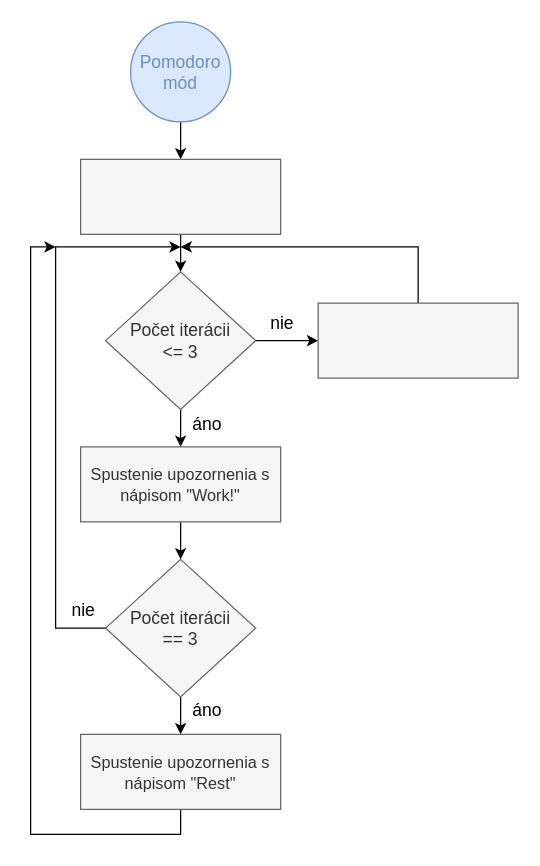
This 540x866 diagram has some shape labels left out. The centre of each missing label's shape, as x and y in pixels:
Spustenie upozornenia s nápisom "Long rest": (417,340)
Výpis úvodného textu na displej "Pomodoro": (180,196)
